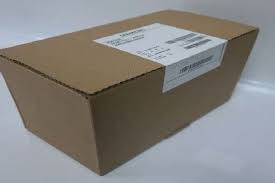undamaged: (0, 7, 260, 180)
